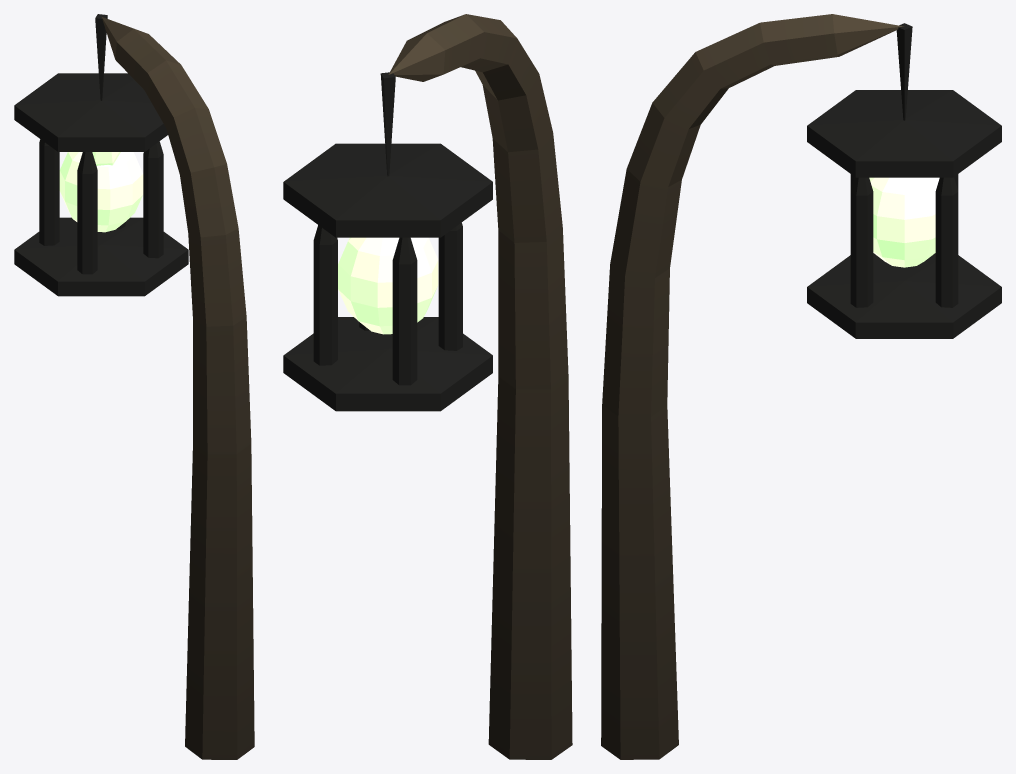
File: WispLantern.glb
3 renders of one model, left to right at view 1: azimuth 30°, elevation 25°; view 2: azimuth 150°, elevation 25°; view 3: azimuth 270°, elevation 25°, orthographic. The views are drawn at different scales.
Parts seen in each view (by area): view 1: WispLantern, WispLantern_Glow; view 2: WispLantern, WispLantern_Glow; view 3: WispLantern, WispLantern_Glow.
Part boxes in pixels (x1,y1,x2,y2): WispLantern: (14, 14, 254, 759); WispLantern_Glow: (59, 152, 143, 232); WispLantern: (283, 14, 572, 759); WispLantern_Glow: (338, 237, 438, 334); WispLantern: (601, 14, 1001, 759); WispLantern_Glow: (869, 177, 939, 267).
Bounding box in the file's own units: 0.7015 × 3.36 × 1.67.
2 materials, 1 textured.
